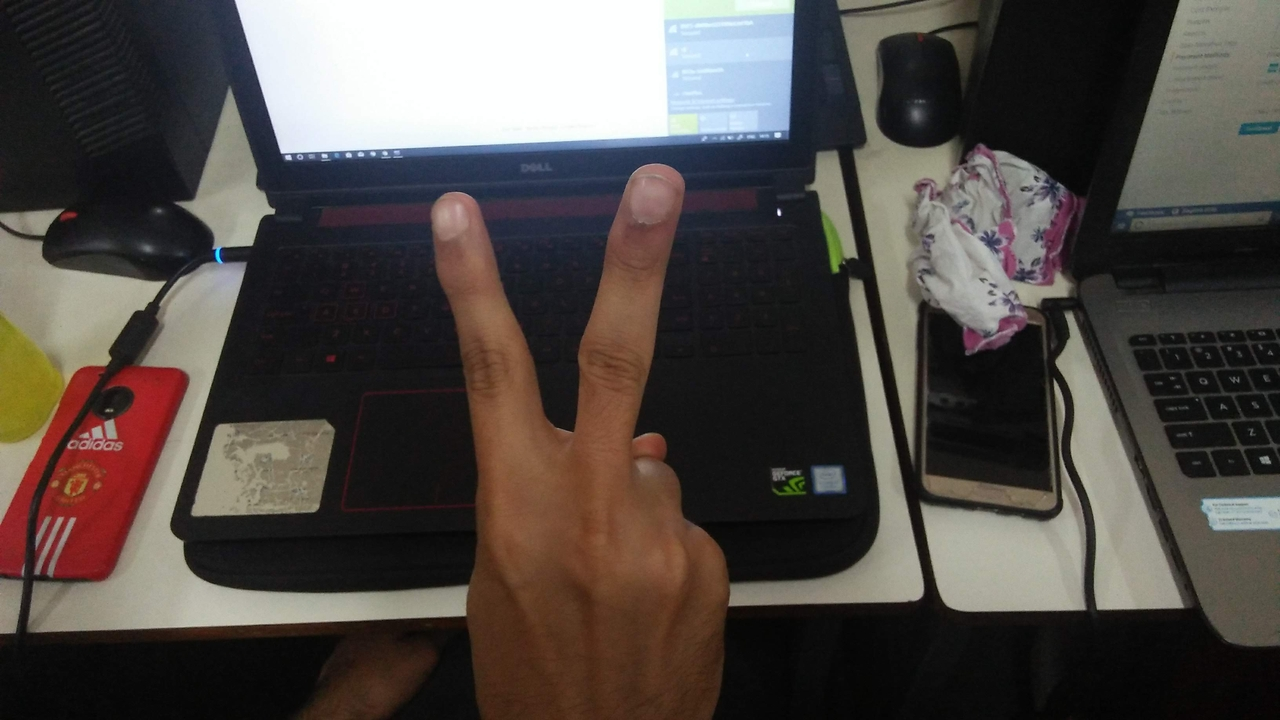fingertip: (608, 154, 690, 226), (420, 184, 492, 254)
